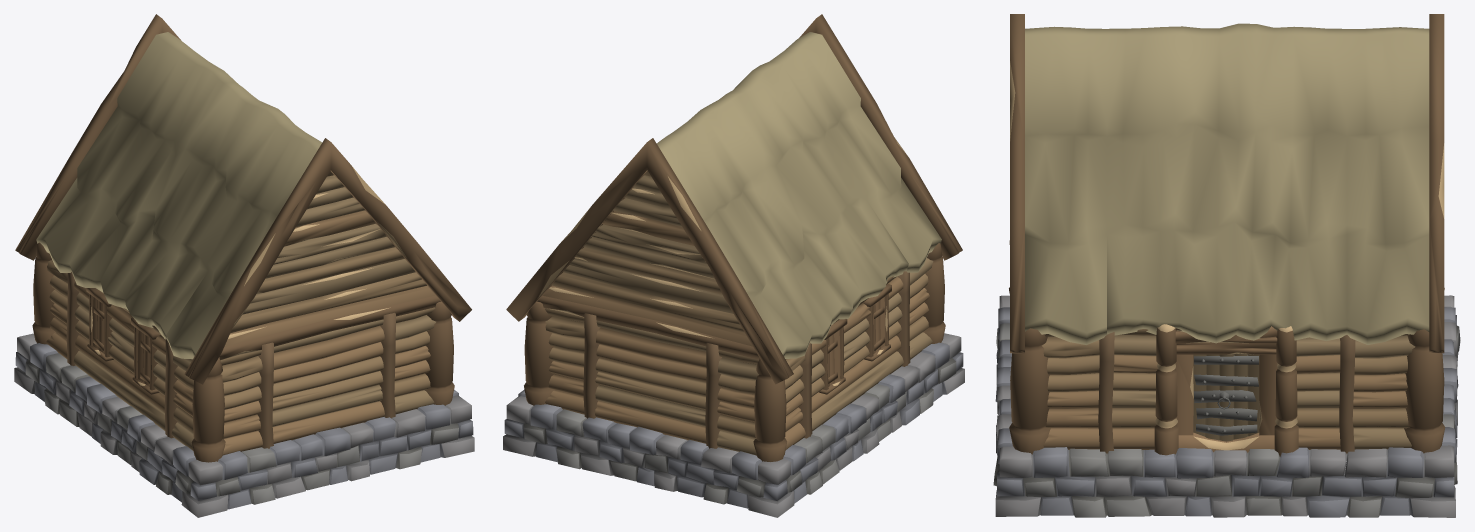
File: rpgpp_lt_building_04 -col.glb
3 renders of one model, left to right at view 1: azimuth 30°, elevation 25°; view 2: azimuth 150°, elevation 25°; view 3: azimuth 270°, elevation 25°, orthographic. The views are drawn at different scales.
Visible parts, largest first — view 1: rpgpp_lt_building_04 -col; view 2: rpgpp_lt_building_04 -col; view 3: rpgpp_lt_building_04 -col.
Boxes of the visible parts, <box> form: rpgpp_lt_building_04 -col: <box>14,14,474,517</box>; rpgpp_lt_building_04 -col: <box>503,14,964,517</box>; rpgpp_lt_building_04 -col: <box>993,14,1460,517</box>.
Bounding box in the file's own units: 8.41 × 9.65 × 9.73.
Materials: 1 (1 with a texture image).
